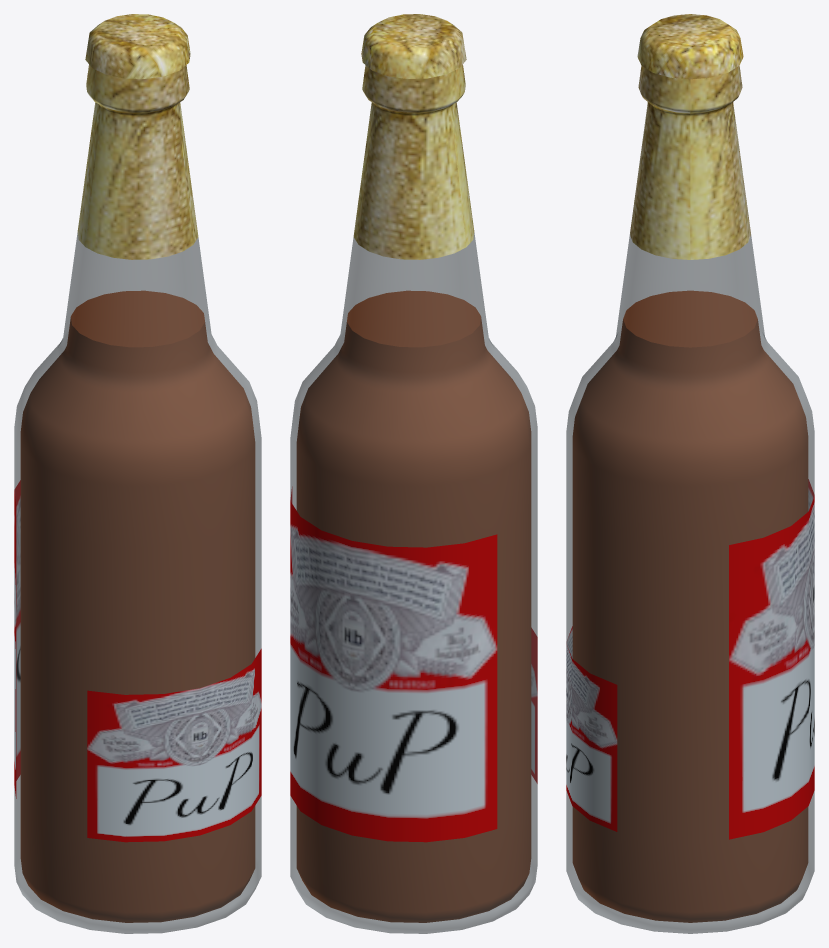
Rendered from Beer_pup.fbx.
3 views of the same model, side by side, from view 1: azimuth 30°, elevation 25°; view 2: azimuth 150°, elevation 25°; view 3: azimuth 270°, elevation 25° (orthographic).
Visible parts, largest first — view 1: Beer_pup; view 2: Beer_pup; view 3: Beer_pup.
Boxes of the visible parts, <box> form: Beer_pup: <box>14,14,261,933</box>; Beer_pup: <box>290,14,537,933</box>; Beer_pup: <box>566,14,814,933</box>.
Size of the model in its own units: 9.84 by 37.49 by 9.84.
